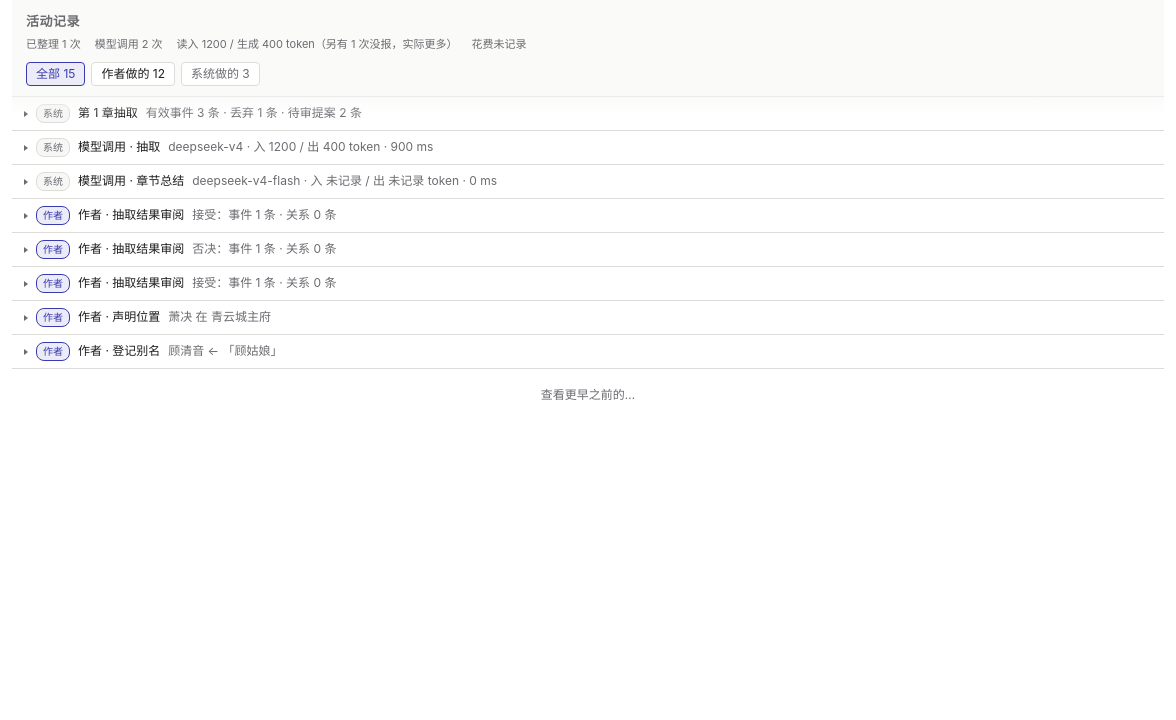
Test case: 活动记录 › 展开看得到「跑了什么、结果是什么、花了多少」
Click the button "系统 第 1 章抽取 有效事件 3 条 · 丢弃 1 条 · 待审提案 2 条". click: [53, 114]
box: [12, 97, 1164, 130]
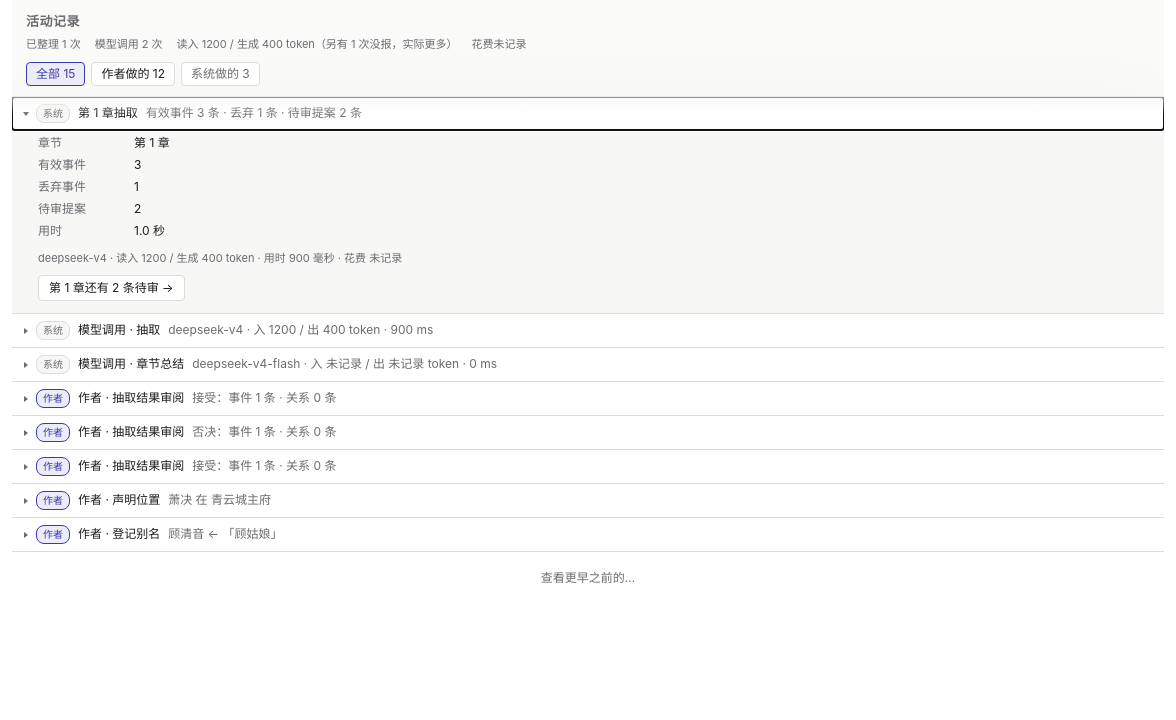
Result: the text "有效事件" is shown at [38, 157, 86, 172]
Result: the text "待审提案" is shown at [38, 201, 86, 216]
Result: the text "deepseek-v4 · 读入 1200 / 生成 400 token · 用时 900 毫秒 · 花费 未记录" is shown at [38, 251, 402, 265]
